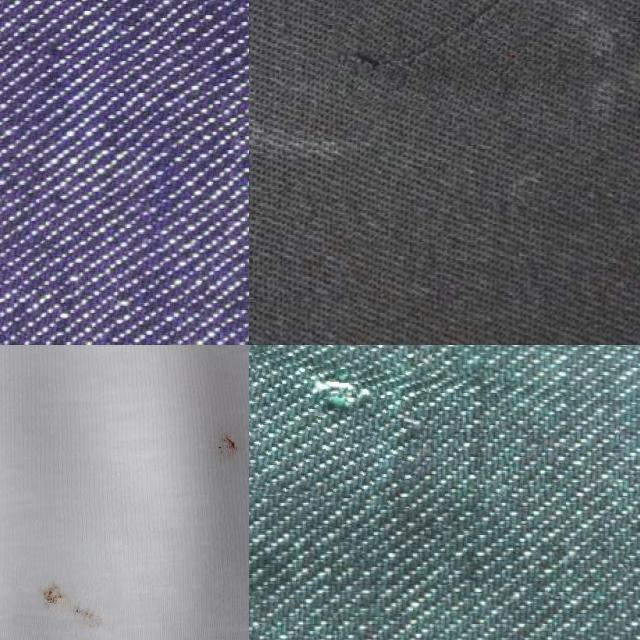Thread_other: (12, 557, 120, 640), (182, 412, 249, 481)
stains: (249, 345, 433, 503), (330, 0, 529, 114)
